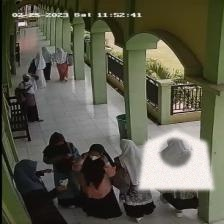Mukena: (138, 130, 213, 189)
